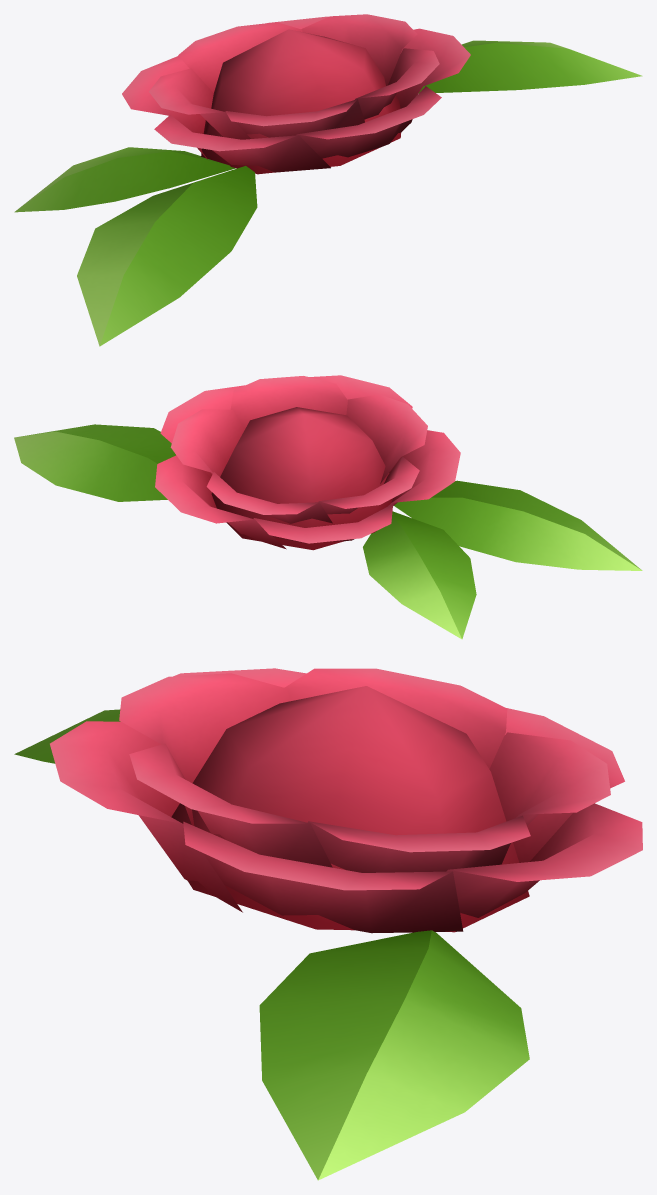
The model's file is m_PrincessCake01_Deco.fbx.
3 views of the same model, one above another, from view 1: azimuth 30°, elevation 25°; view 2: azimuth 150°, elevation 25°; view 3: azimuth 270°, elevation 25° (orthographic). The views are drawn at different scales.
Parts seen in each view (by area): view 1: m_PrincessCake01_Deco; view 2: m_PrincessCake01_Deco; view 3: m_PrincessCake01_Deco.
Boxes of the visible parts, x1,y1,x2,y2 form: m_PrincessCake01_Deco: (14, 14, 642, 346); m_PrincessCake01_Deco: (14, 375, 642, 639); m_PrincessCake01_Deco: (14, 668, 642, 1180).
Bounding box in the file's own units: 14.67 × 3.97 × 7.38.
